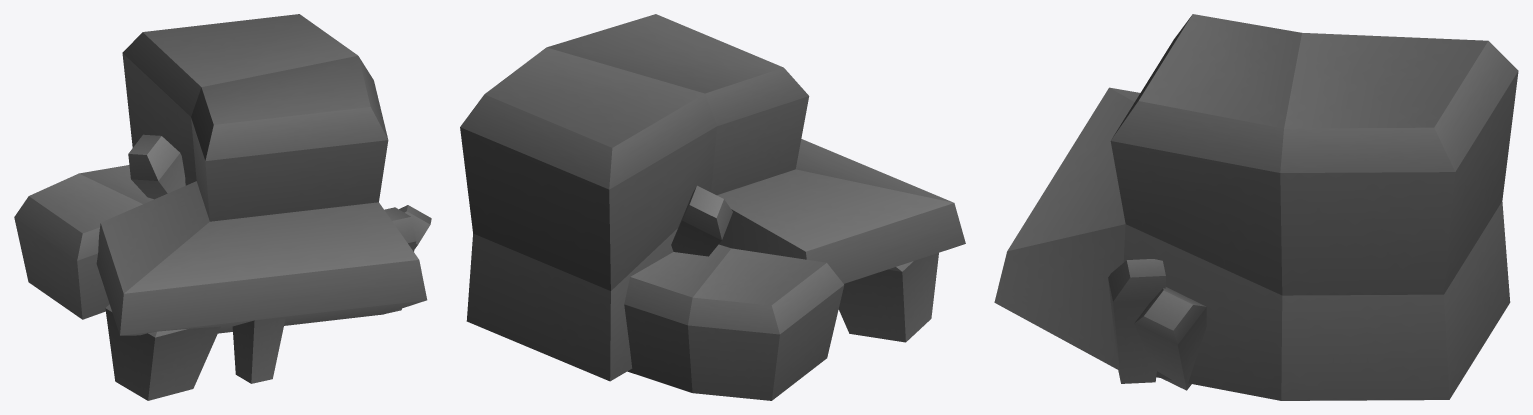
File: pack02_rocks_22.fbx
The picture shows the model from 3 angles, left to right: view 1: azimuth 30°, elevation 25°; view 2: azimuth 150°, elevation 25°; view 3: azimuth 270°, elevation 25°; orthographic projection. The views are drawn at different scales.
Parts seen in each view (by area): view 1: Rock Type6 02 mesh; view 2: Rock Type6 02 mesh; view 3: Rock Type6 02 mesh.
Boxes of the visible parts, bbox=[...] form: Rock Type6 02 mesh: bbox=[14, 14, 431, 400]; Rock Type6 02 mesh: bbox=[460, 14, 965, 400]; Rock Type6 02 mesh: bbox=[994, 14, 1518, 400].
Size of the model in its own units: 179 by 115 by 183.
Materials: 1 (1 with a texture image).
